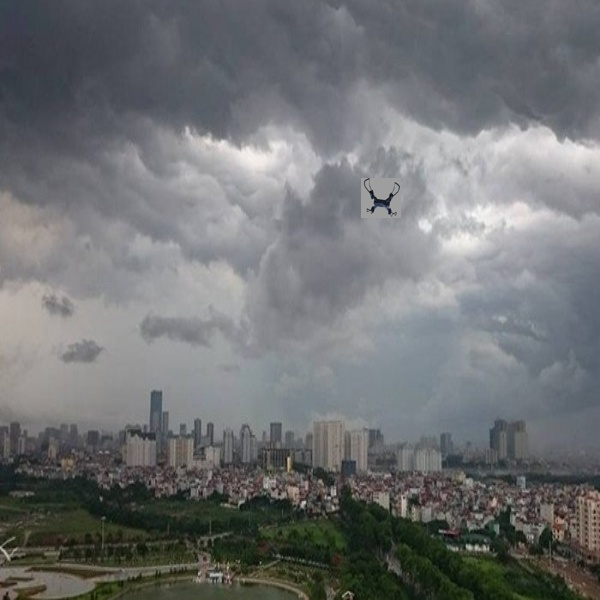drone: (362, 173, 401, 219)
